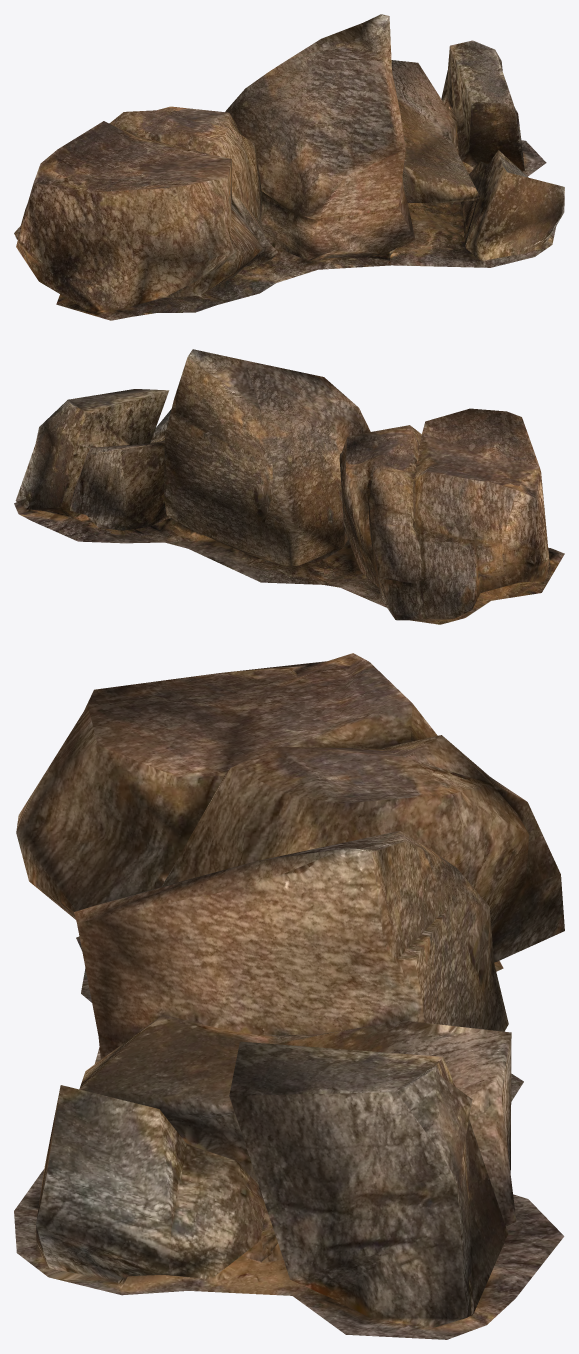
Rendered from ph_namaqualand_boulder_02.glb.
3 views of the same model, one above another, from view 1: azimuth 30°, elevation 25°; view 2: azimuth 150°, elevation 25°; view 3: azimuth 270°, elevation 25° (orthographic). The views are drawn at different scales.
Parts seen in each view (by area): view 1: boulder_02; view 2: boulder_02; view 3: boulder_02.
Part boxes in pixels (x1,y1,x2,y2): boulder_02: [14, 14, 564, 320]; boulder_02: [14, 349, 564, 624]; boulder_02: [14, 653, 564, 1339].
Size of the model in its own units: 2.5 by 0.8696 by 1.21.
Materials: 1 (1 with a texture image).
